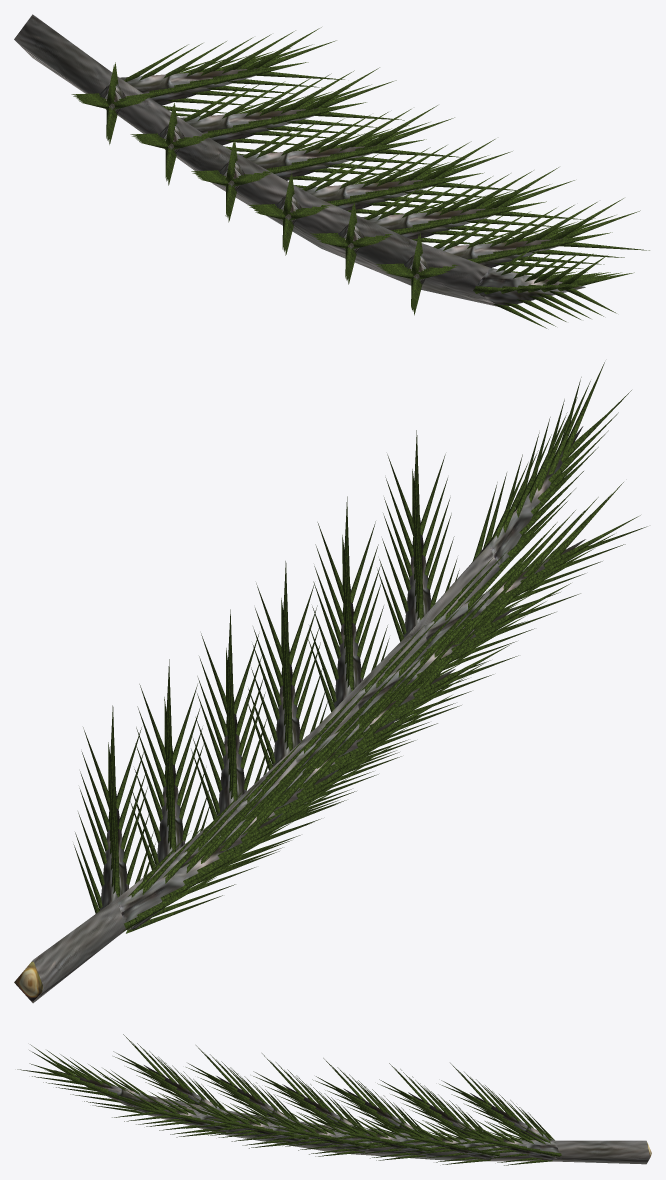
File: Branchv4.dae
The picture shows the model from 3 angles, top to bottom: view 1: azimuth 30°, elevation 25°; view 2: azimuth 150°, elevation 25°; view 3: azimuth 270°, elevation 25°; orthographic projection. The views are drawn at different scales.
Visible parts, largest first — view 1: Plane_001; view 2: Plane_001; view 3: Plane_001.
Boxes of the visible parts, left/top/right/bottom form: Plane_001: left=14, top=14, right=649, bottom=328; Plane_001: left=14, top=362, right=647, bottom=1003; Plane_001: left=17, top=1034, right=651, bottom=1165.
Bounding box in the file's own units: 0.285 × 1.13 × 0.2367.
Materials: 1 (1 with a texture image).
